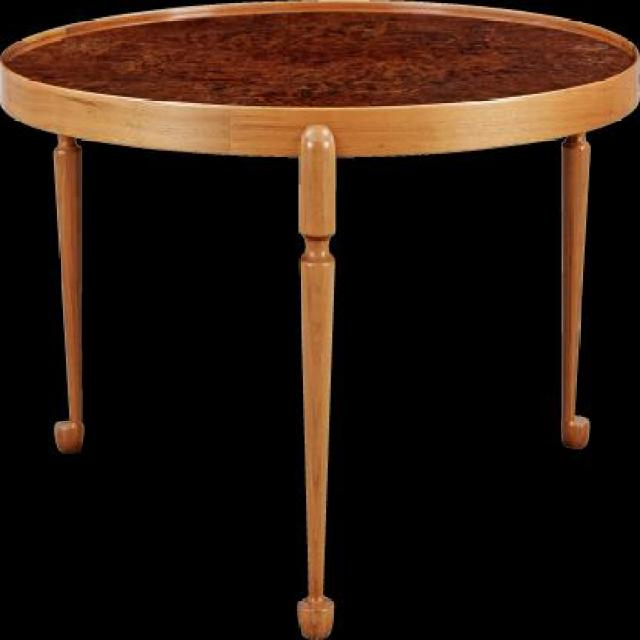table: (2, 3, 638, 640)
